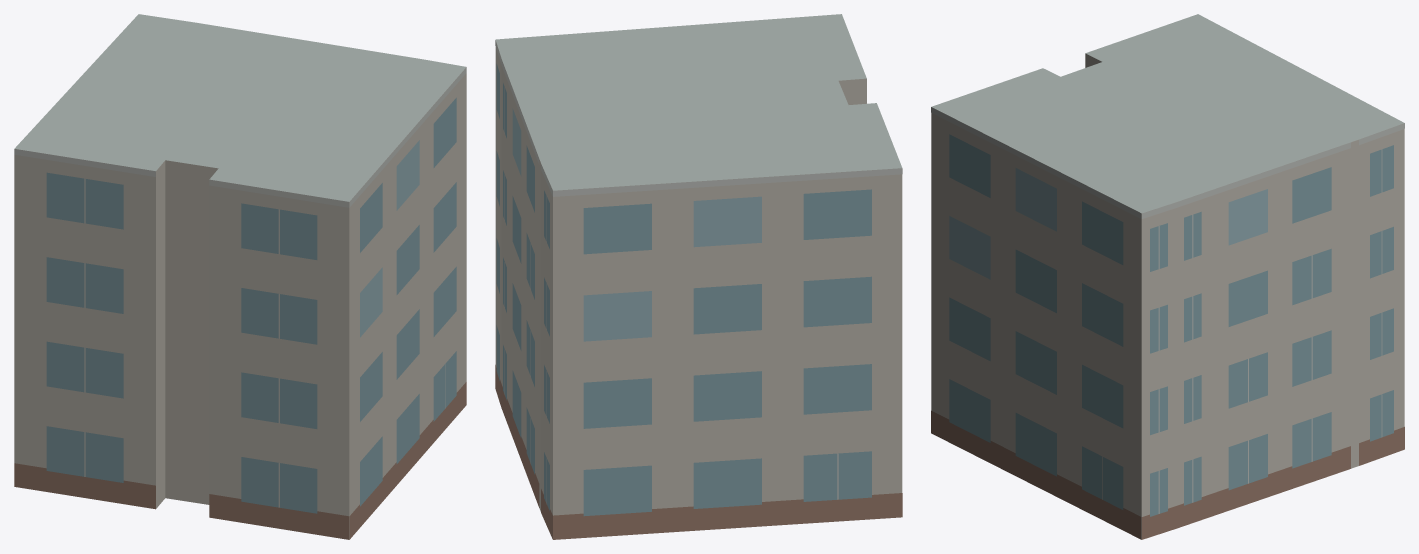
Rendered from survey-upis-32986342.glb.
3 renders of one model, left to right at view 1: azimuth 30°, elevation 25°; view 2: azimuth 150°, elevation 25°; view 3: azimuth 270°, elevation 25°, orthographic. The views are drawn at different scales.
Parts seen in each view (by area): view 1: survey-upis-32986342.tmp; view 2: survey-upis-32986342.tmp; view 3: survey-upis-32986342.tmp.
Part boxes in pixels (x1,y1,x2,y2): survey-upis-32986342.tmp: (14, 14, 466, 539); survey-upis-32986342.tmp: (495, 14, 902, 539); survey-upis-32986342.tmp: (931, 14, 1404, 539).
Size of the model in its own units: 18.09 by 13.8 by 18.16.
